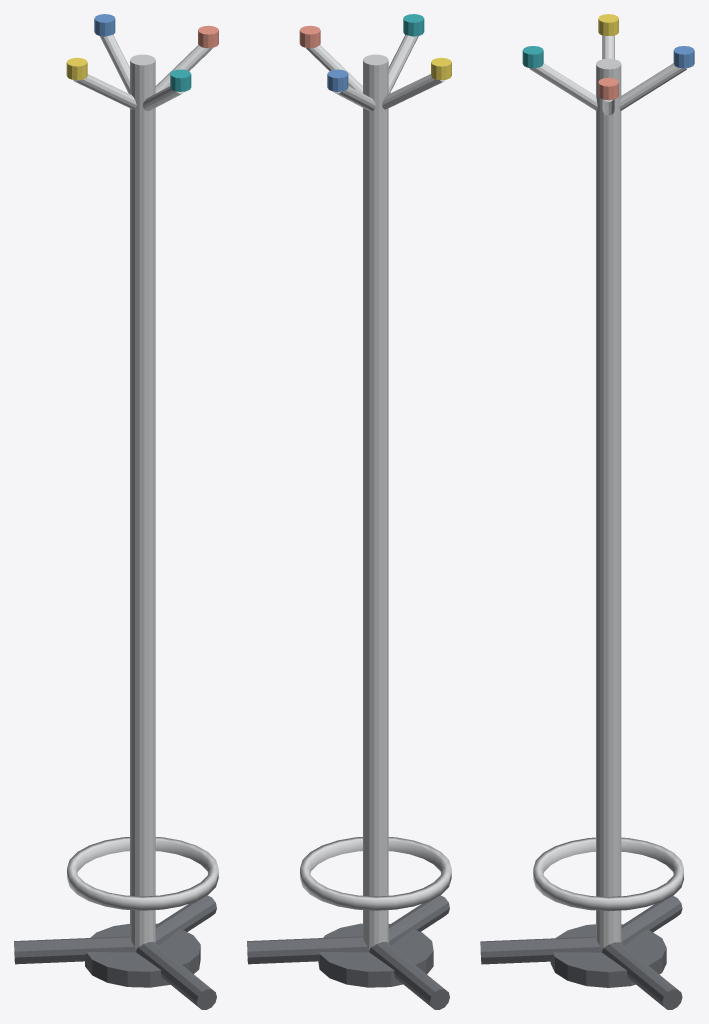
The model's file is coat_stand.glb.
3 renders of one model, left to right at view 1: azimuth 30°, elevation 25°; view 2: azimuth 150°, elevation 25°; view 3: azimuth 270°, elevation 25°, orthographic.
Visible parts, largest first — view 1: coat-stand; view 2: coat-stand; view 3: coat-stand.
Boxes of the visible parts, box(x1,y1,x2,y2) form: coat-stand: box(14, 14, 218, 1009); coat-stand: box(247, 14, 451, 1009); coat-stand: box(480, 14, 694, 1009).
Size of the model in its own units: 0.4011 by 1.74 by 0.3689.
